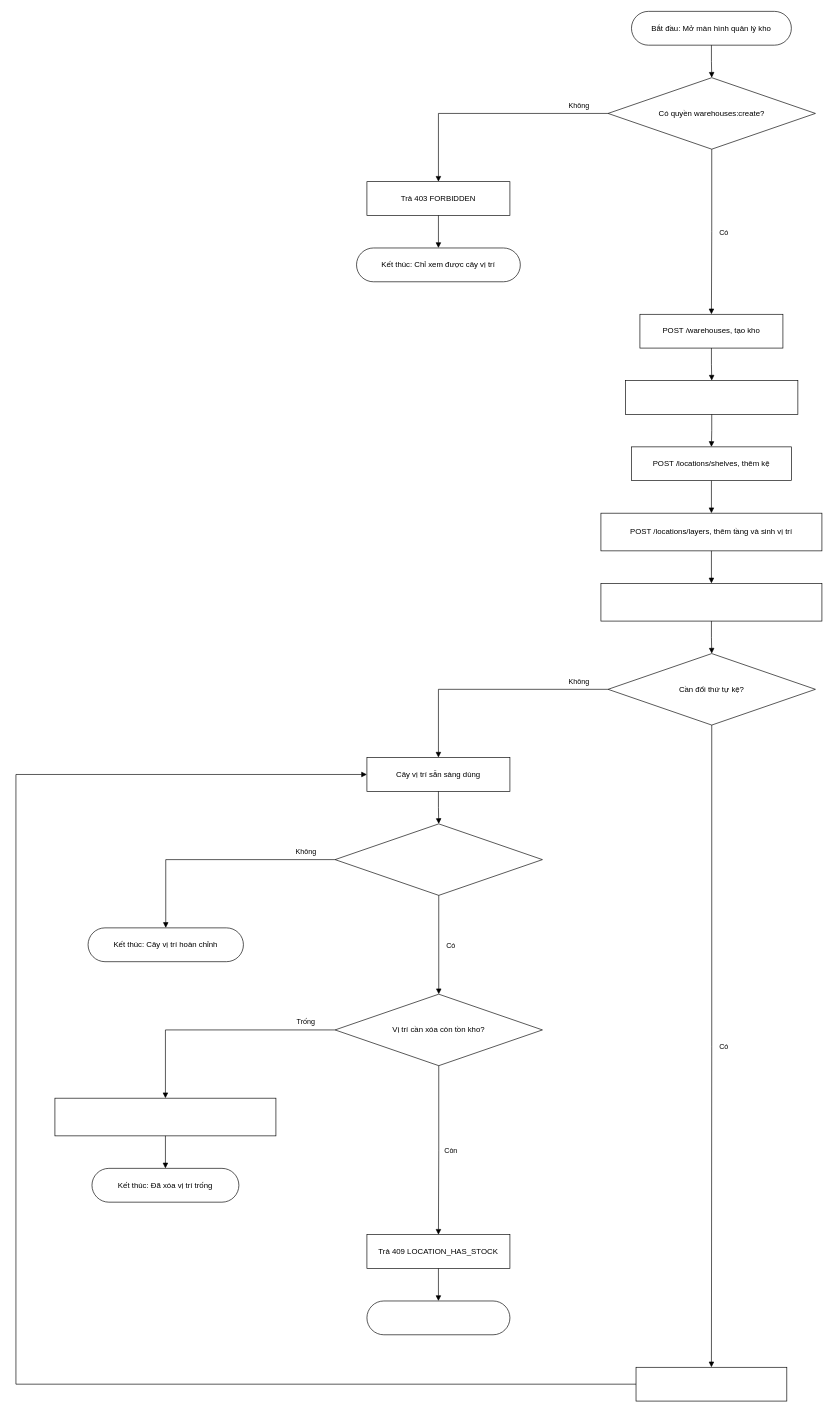
Some shapes in this 833 by 1412 pixel diagram are drawn without their labels. The shapes that lost their labels are listed below. From the top down, each one's centre as x and y in pixels, then its label:
At point (711, 397): "POST /locations/zones, thêm khu vực".
At point (711, 602): "POST /locations/sync-matrix, đồng bộ ma trận vị trí".
At point (438, 859): "Cần xóa bớt vị trí?".
At point (165, 1117): "DELETE /locations/layer hoặc /locations/shelf/:shelfId".
At point (438, 1317): "Kết thúc: Giữ nguyên vị trí".
At point (711, 1384): "PUT /locations/shelves/reorder".
